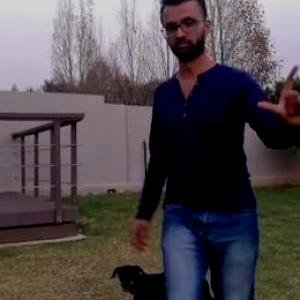land_hand: (256, 56, 299, 130)
